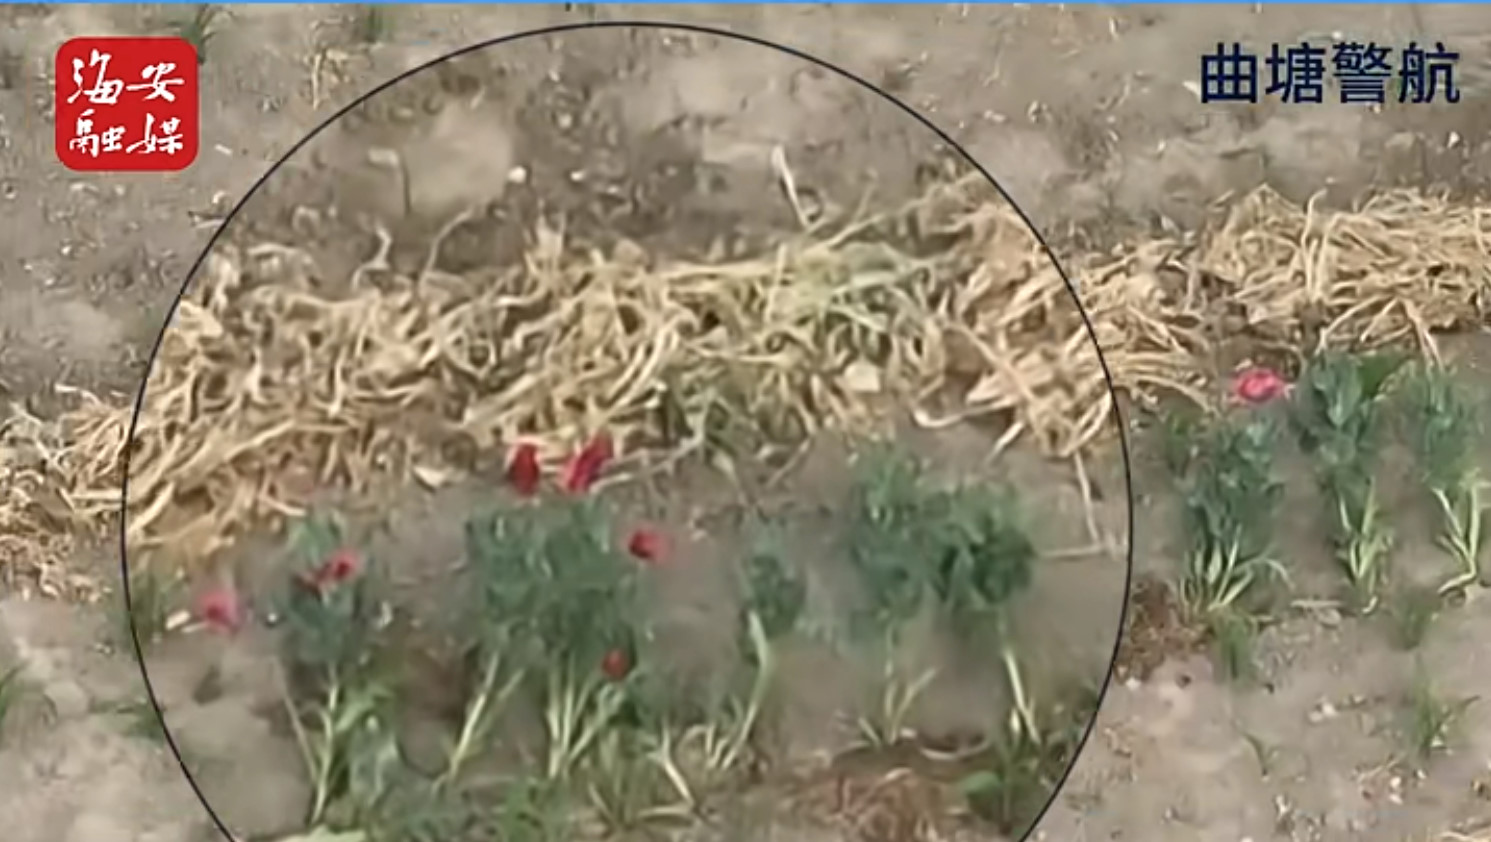Poppy: (1159, 332, 1491, 630), (829, 414, 1072, 776), (170, 485, 432, 816), (442, 413, 691, 756)
